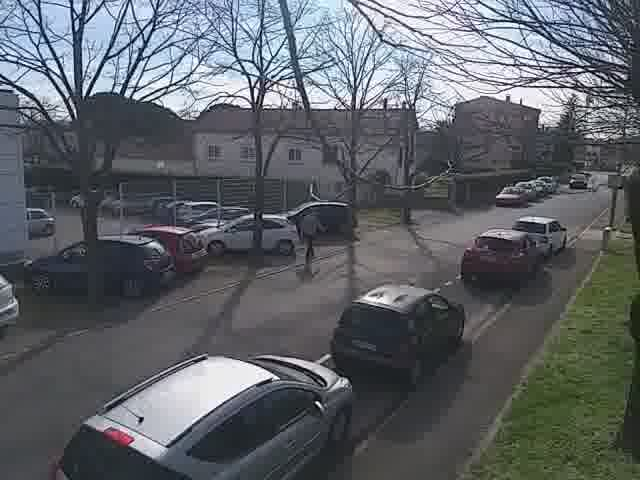persona: (295, 199, 328, 266)
